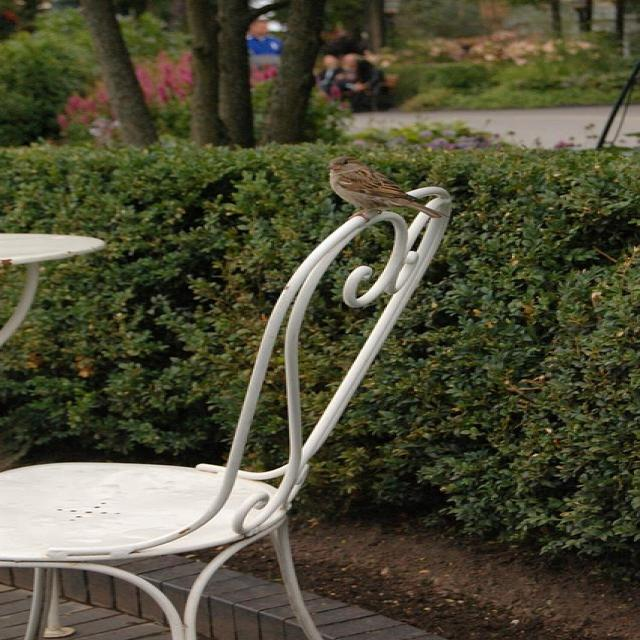chair: (0, 186, 453, 640)
dining table: (0, 234, 102, 345)
